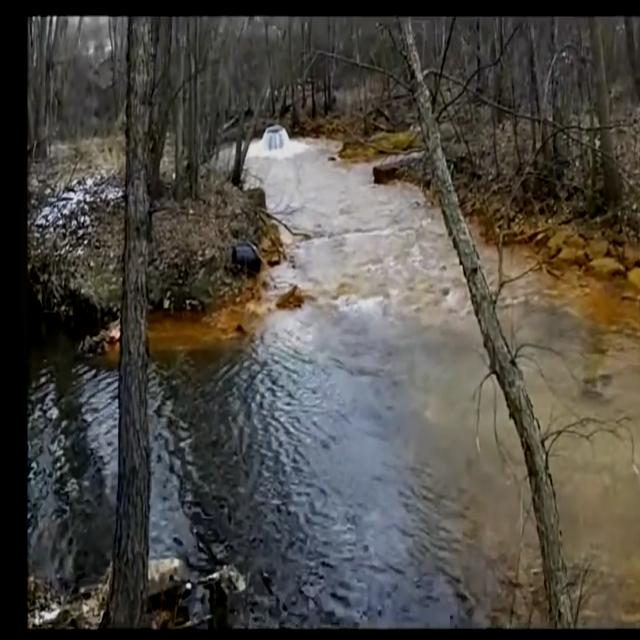yellow_boy: (152, 186, 524, 543), (496, 248, 640, 615)
